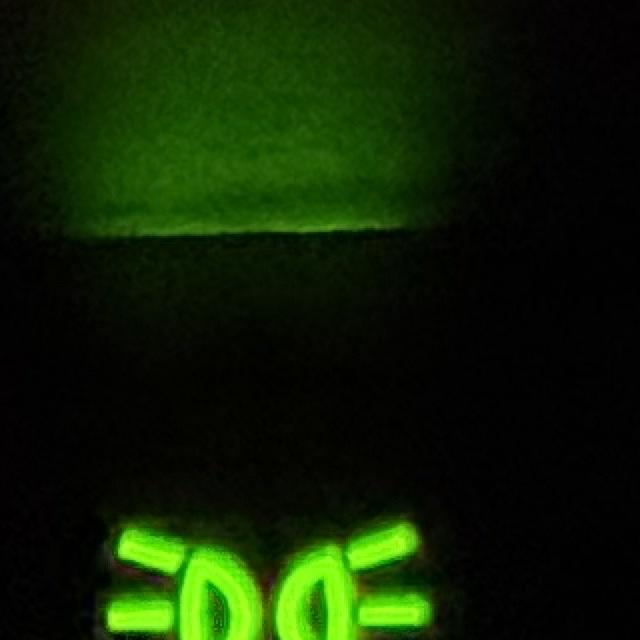Parking Light On: (107, 520, 435, 640)
